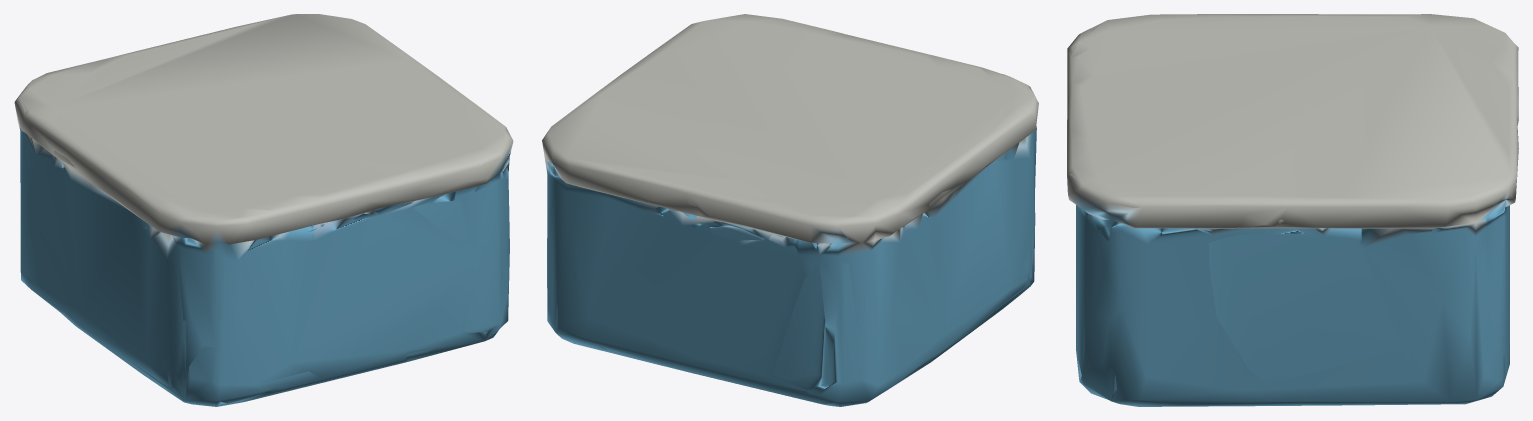
File: gen3d-kitchen-island-lod0.glb
3 renders of one model, left to right at view 1: azimuth 30°, elevation 25°; view 2: azimuth 150°, elevation 25°; view 3: azimuth 270°, elevation 25°, orthographic. The views are drawn at different scales.
Parts seen in each view (by area): view 1: part_0; view 2: part_0; view 3: part_0.
Part boxes in pixels (bbox=[...]): part_0: bbox=[14, 14, 513, 406]; part_0: bbox=[542, 14, 1038, 406]; part_0: bbox=[1067, 14, 1518, 406].
Bounding box in the file's own units: 1.9 × 1 × 1.9.
